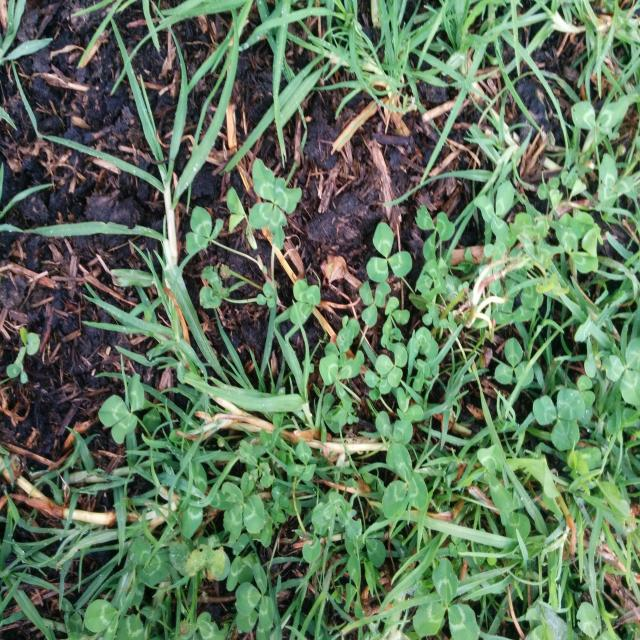Four Leaf Clover: (249, 159, 301, 249)
